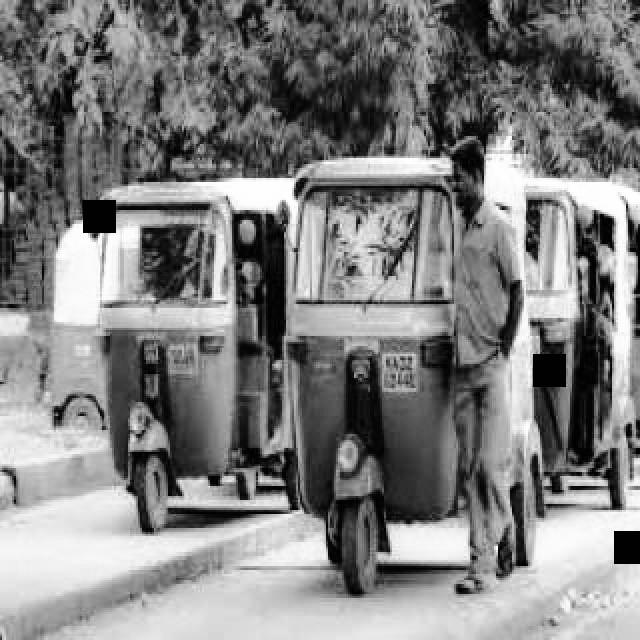Auto-Rickshaw: (292, 140, 556, 600), (92, 162, 298, 518)
